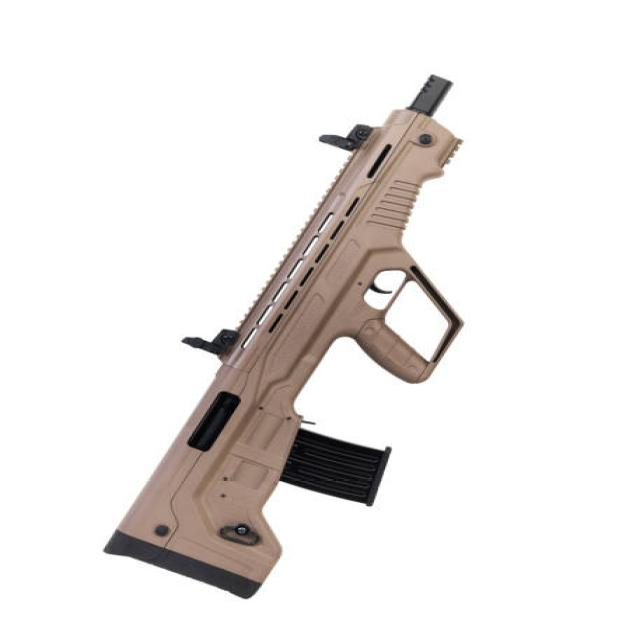rifle: (94, 65, 490, 613)
